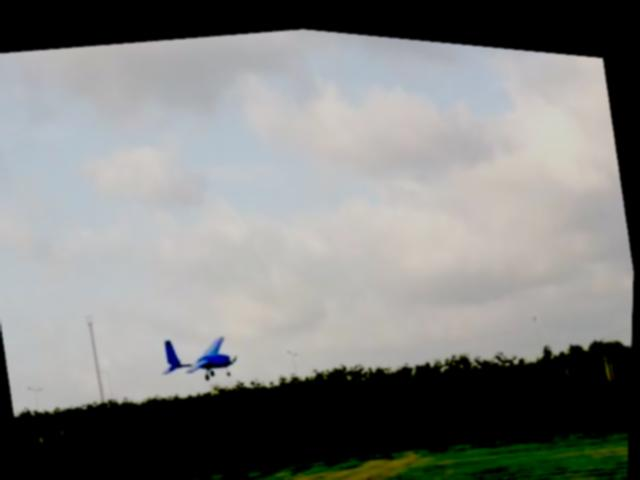uav: (151, 313, 255, 395)
